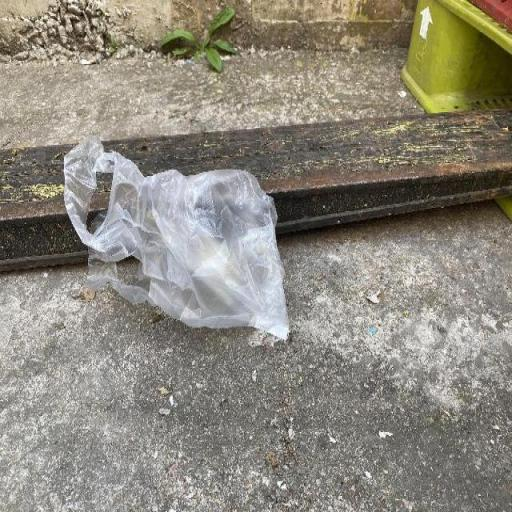plastic-bag: (62, 135, 292, 340)
